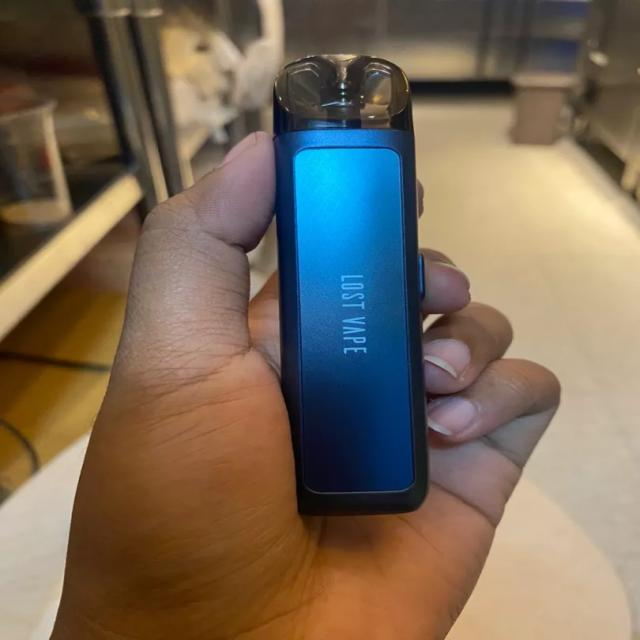Hazard: (271, 50, 428, 517)
